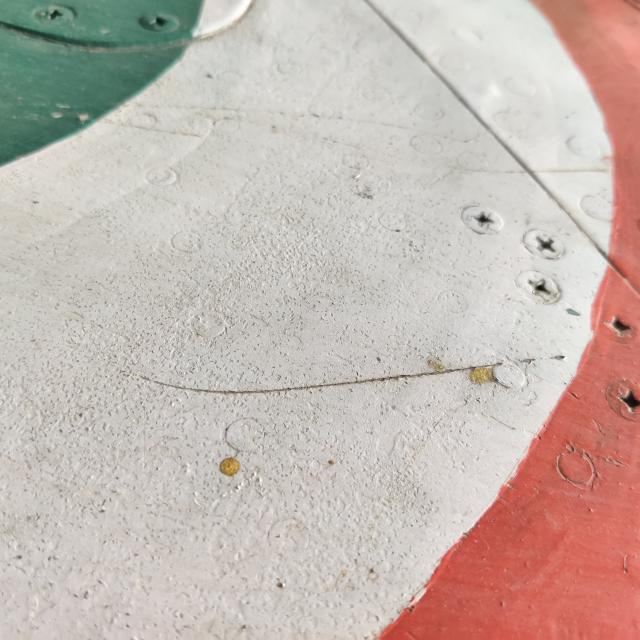scratch: (117, 333, 576, 424)
